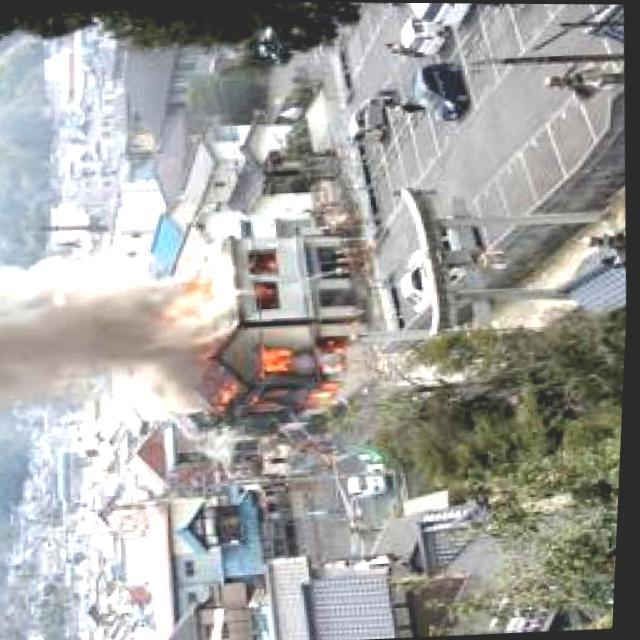helmet: (219, 331, 359, 423)
no_helmet: (0, 249, 218, 408)
